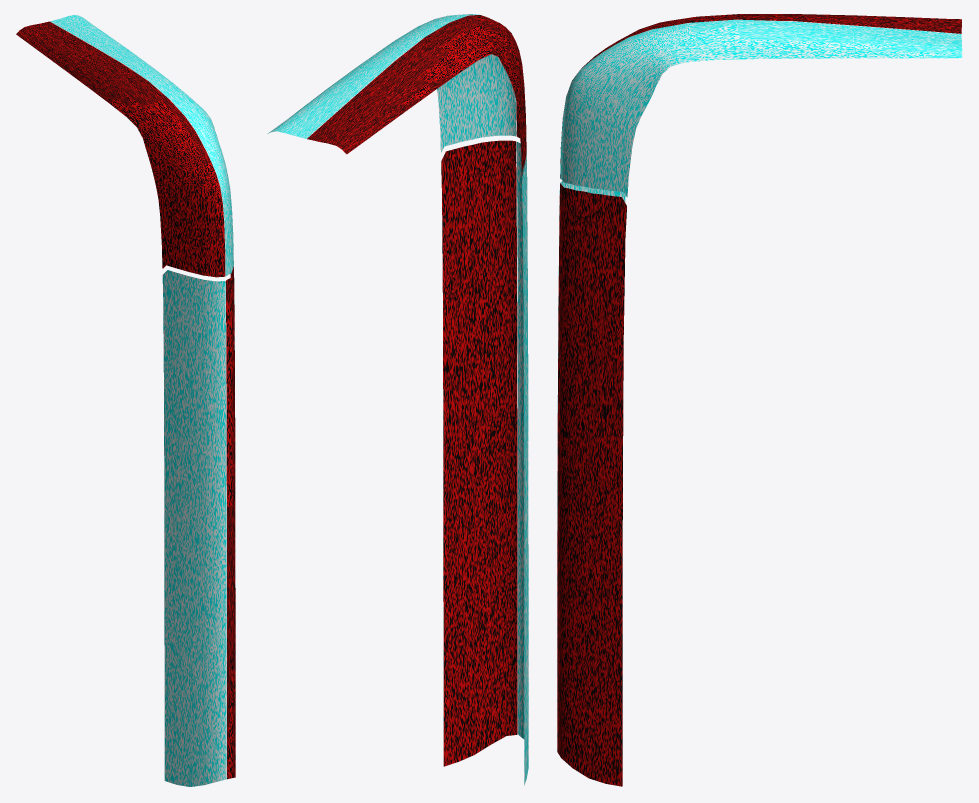
Rendered from SM_Waterfall_Arc_01_RSW.fbx.
3 renders of one model, left to right at view 1: azimuth 30°, elevation 25°; view 2: azimuth 150°, elevation 25°; view 3: azimuth 270°, elevation 25°, orthographic. The views are drawn at different scales.
Visible parts, largest first — view 1: SM_Waterfall_Arc_01_RSW; view 2: SM_Waterfall_Arc_01_RSW; view 3: SM_Waterfall_Arc_01_RSW.
Boxes of the visible parts, x1=… form: SM_Waterfall_Arc_01_RSW: x1=16, y1=14, x2=235, y2=786; SM_Waterfall_Arc_01_RSW: x1=268, y1=14, x2=528, y2=785; SM_Waterfall_Arc_01_RSW: x1=557, y1=14, x2=962, y2=786.
Size of the model in its own units: 217 by 2003 by 986.
